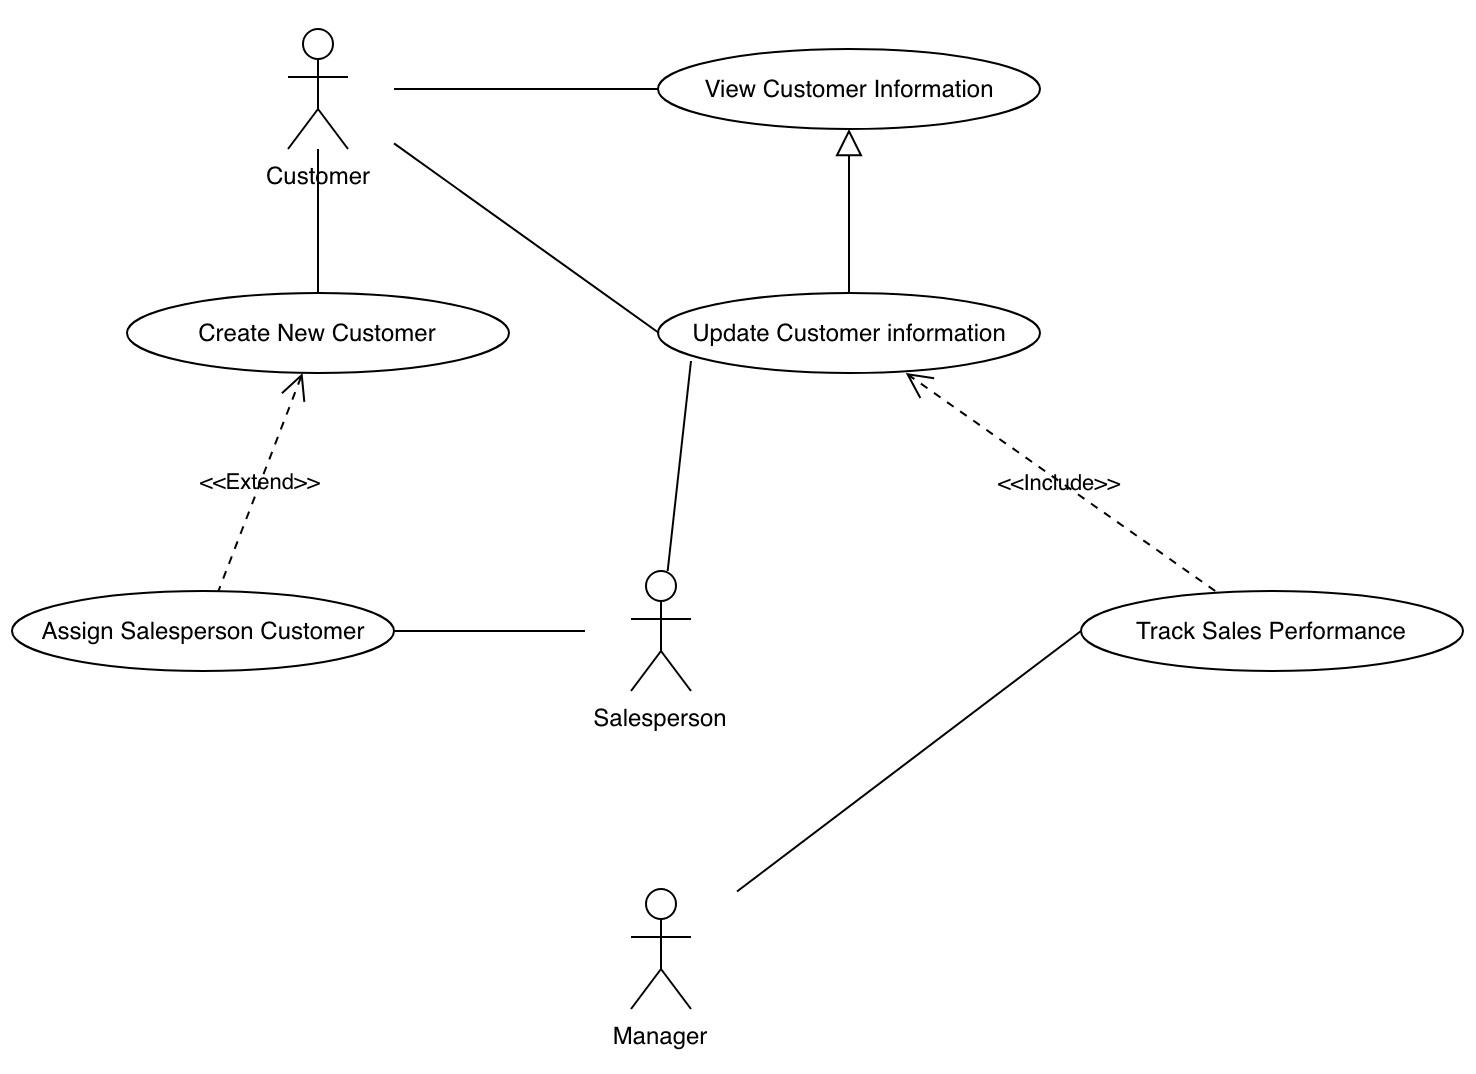actor: (625, 885, 699, 1016), (628, 567, 698, 695), (283, 26, 350, 152)
association: (732, 632, 1079, 897), (902, 371, 1212, 591), (390, 138, 660, 332), (217, 369, 312, 594), (384, 76, 657, 103), (666, 358, 696, 570), (831, 128, 864, 292), (391, 621, 588, 646), (309, 144, 327, 292)
text: (1135, 614, 1415, 651), (38, 617, 367, 648), (702, 72, 995, 107), (688, 318, 1008, 348), (196, 315, 435, 350), (587, 700, 729, 735), (191, 468, 331, 497)
use_case: (11, 588, 394, 675), (125, 289, 512, 374), (661, 293, 1042, 375), (1085, 590, 1465, 671), (662, 44, 1043, 121)
